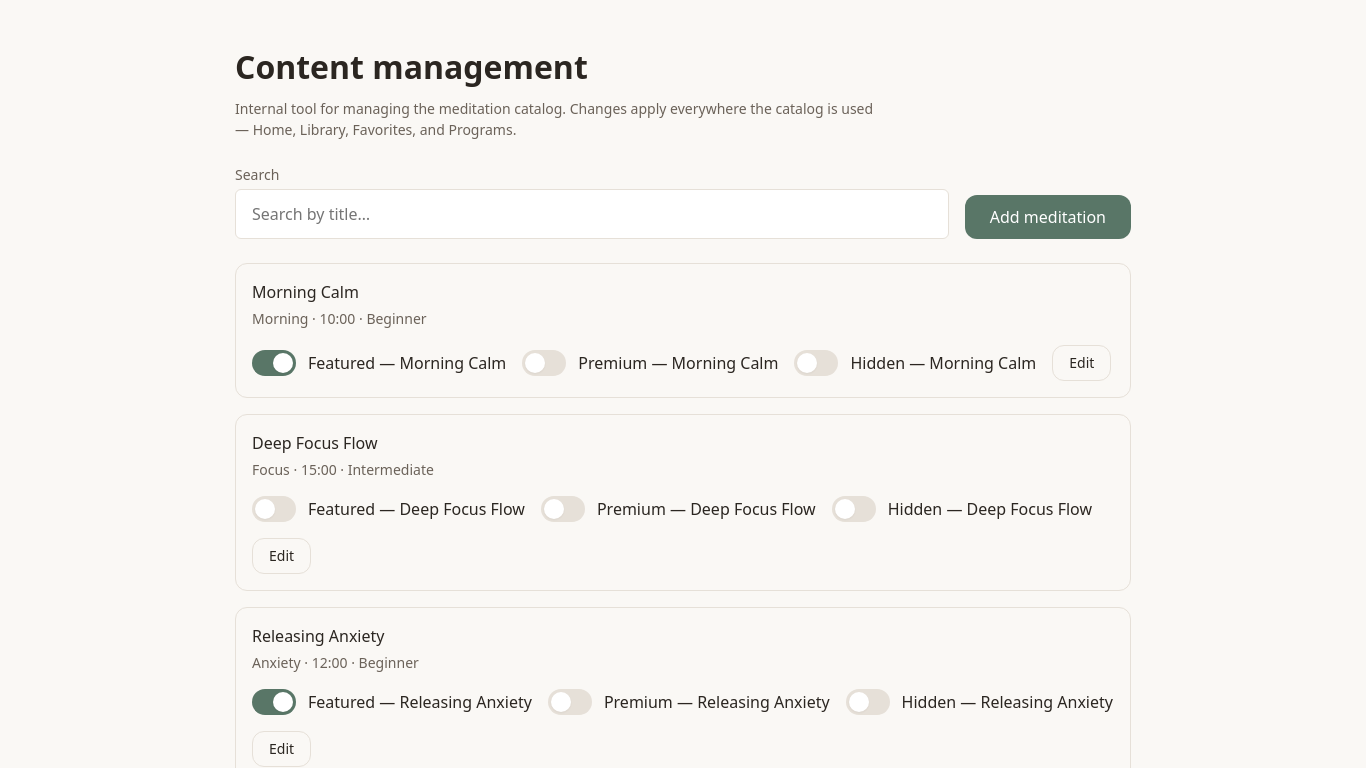
Scenario: AdminPage › edits an existing meditation through the modal
This screenshot has width=1366, height=768.
Click the button "Edit" in the row of "Featured — Morning Calm" at (1082, 363), box [1052, 345, 1111, 381]
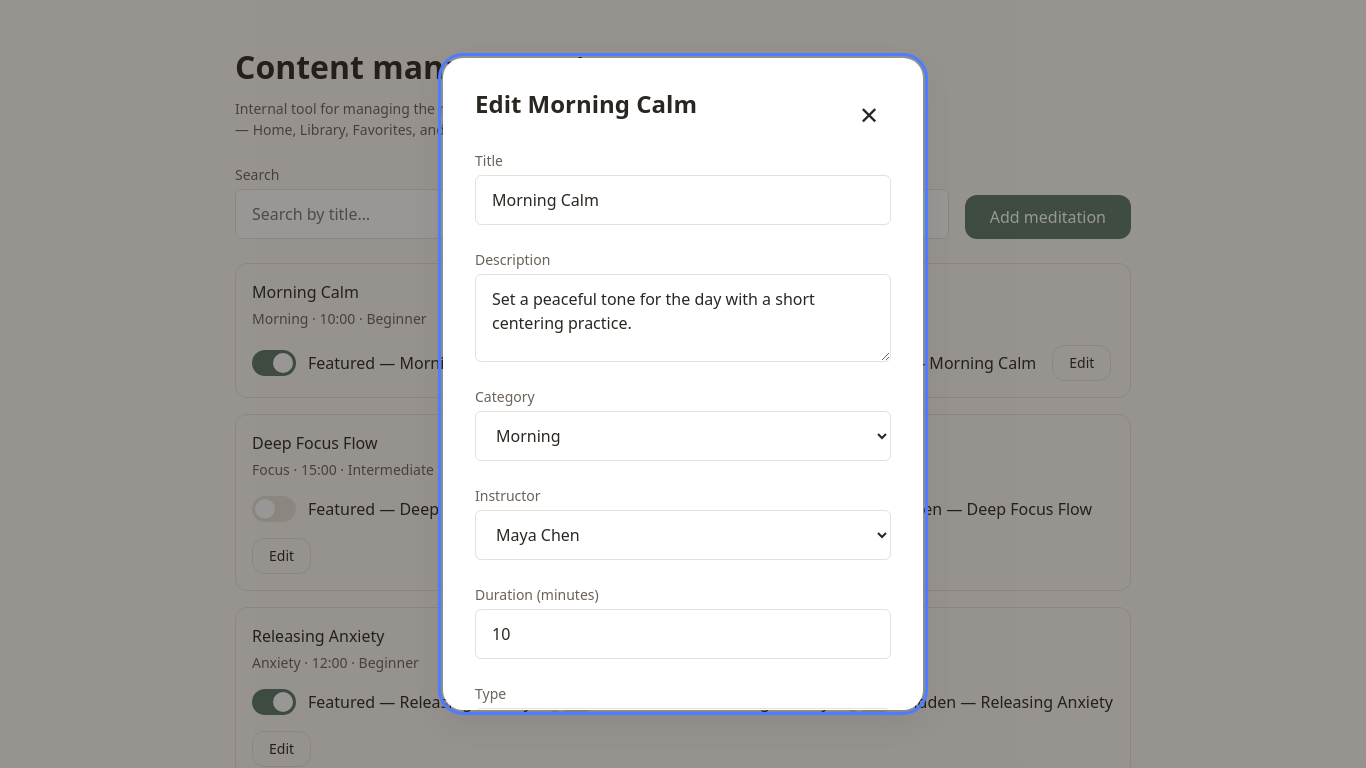
Replace the text in the field labelled "Title" with "Updated Title" at (683, 200), box [475, 175, 891, 225]
(page scrolled)
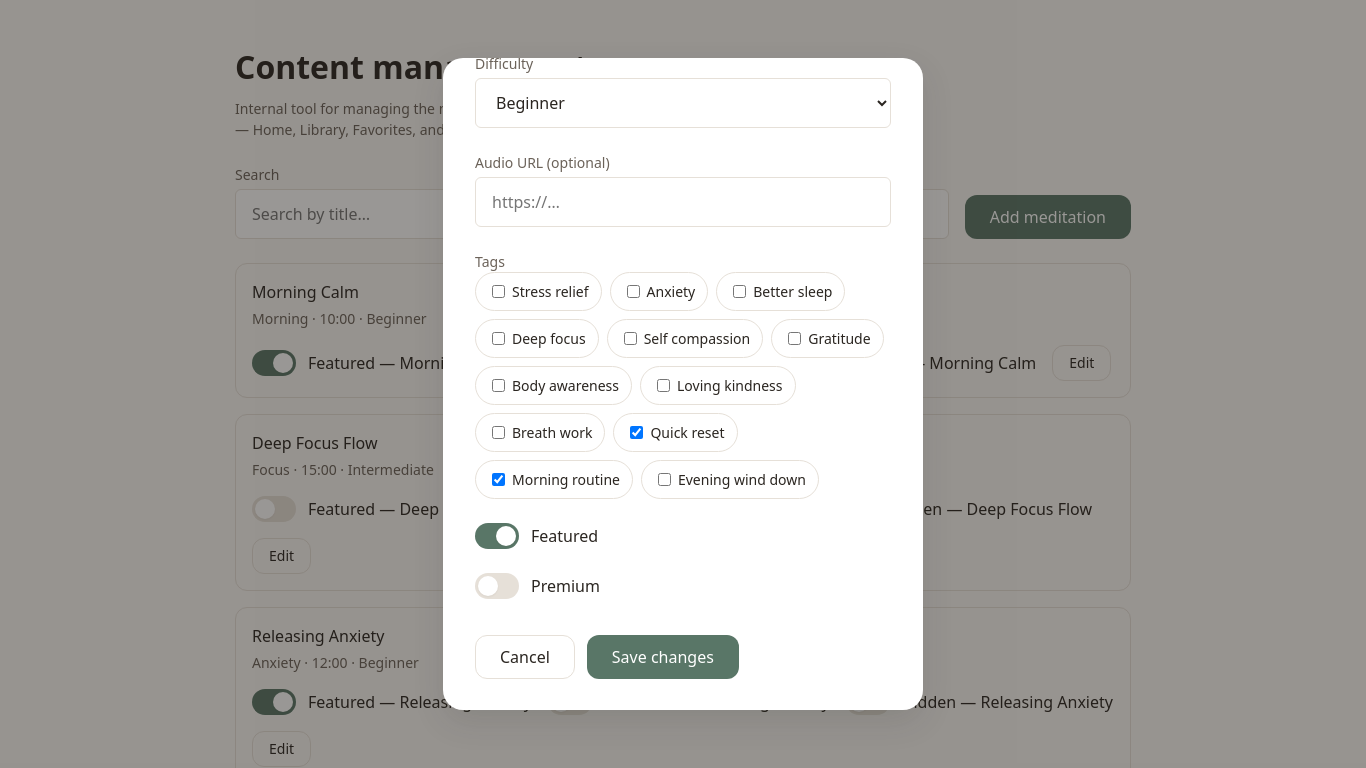
Click the button "Save changes" at (663, 657), box [587, 635, 739, 679]
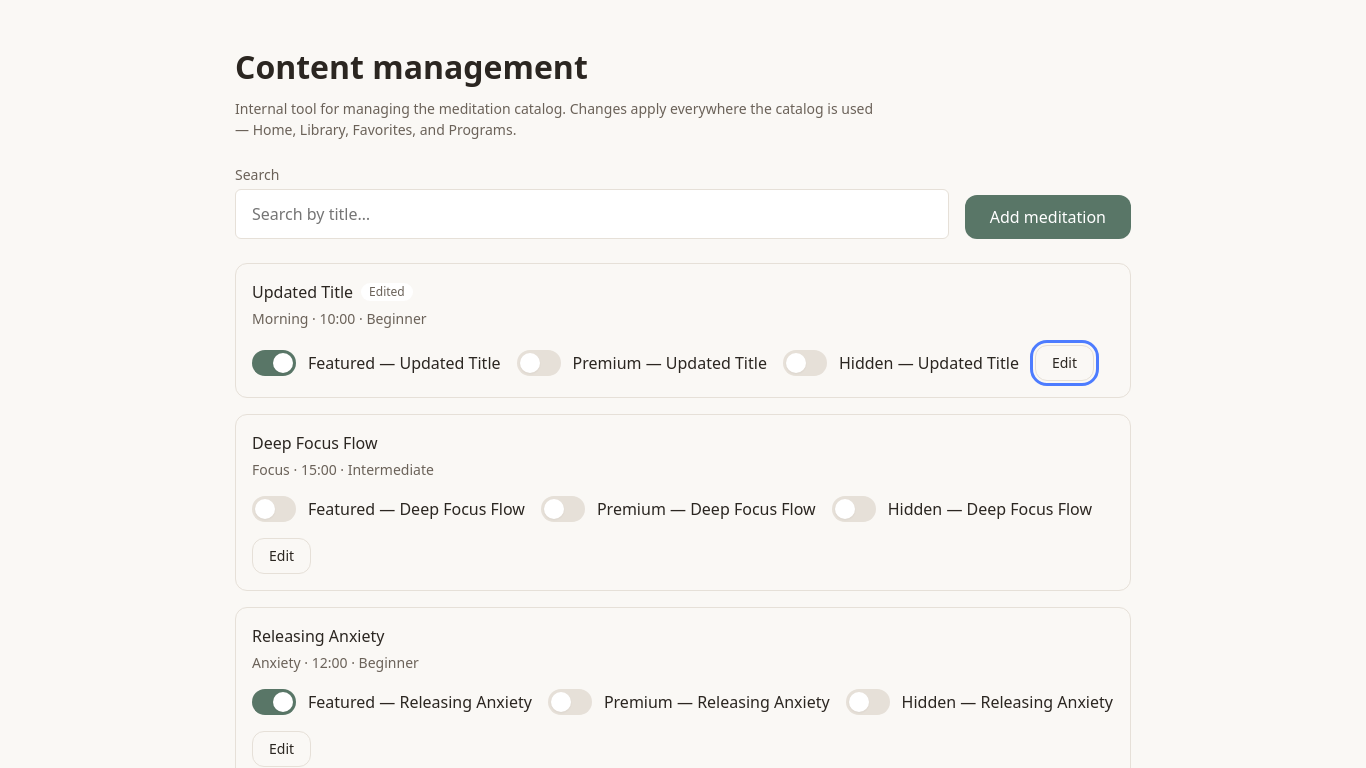
Expected: the text "Updated Title" is shown, [252, 281, 353, 303]
